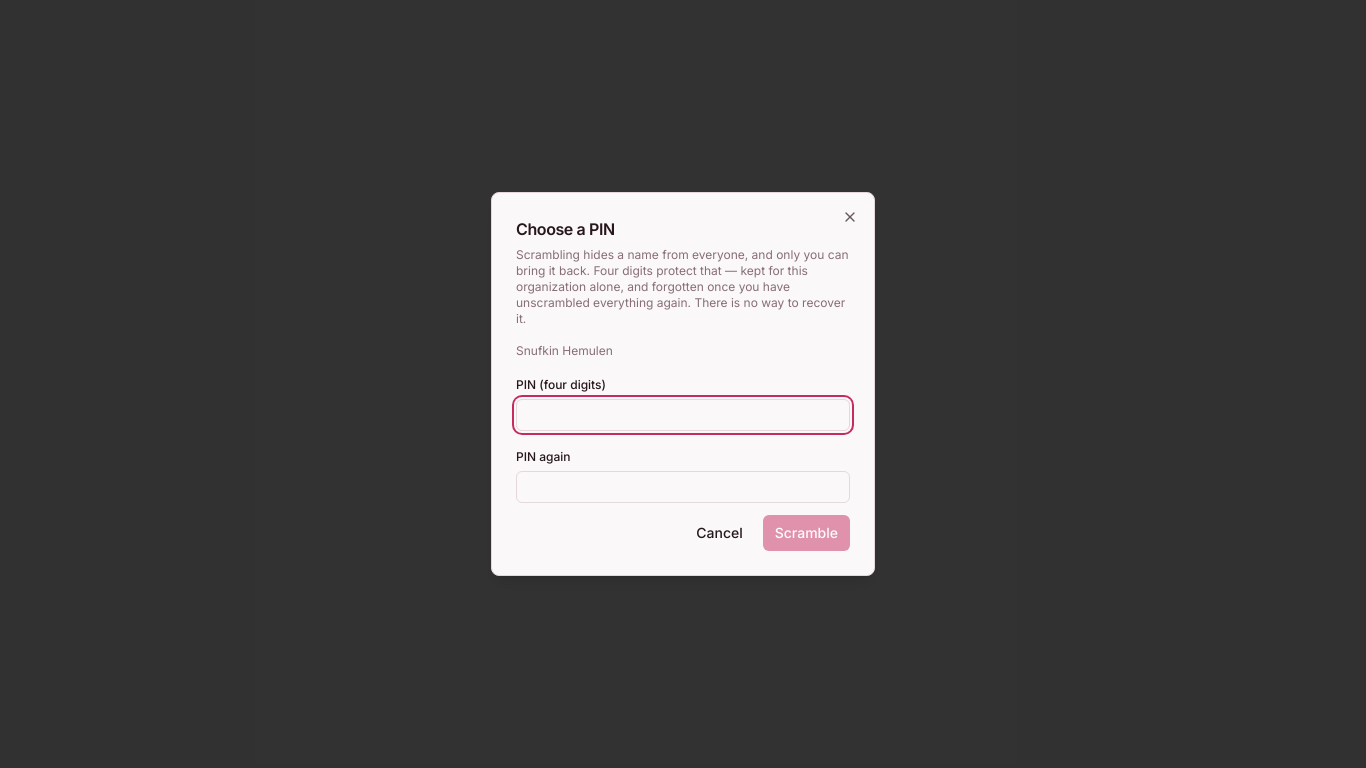
Scenario: scramble PIN dialog › will not send a new PIN that was mistyped twice
The width and height of the screenshot is (1366, 768).
In the password field labelled "PIN (four digits)": (683, 415) x1=516 y1=399 x2=850 y2=431, type "4917"
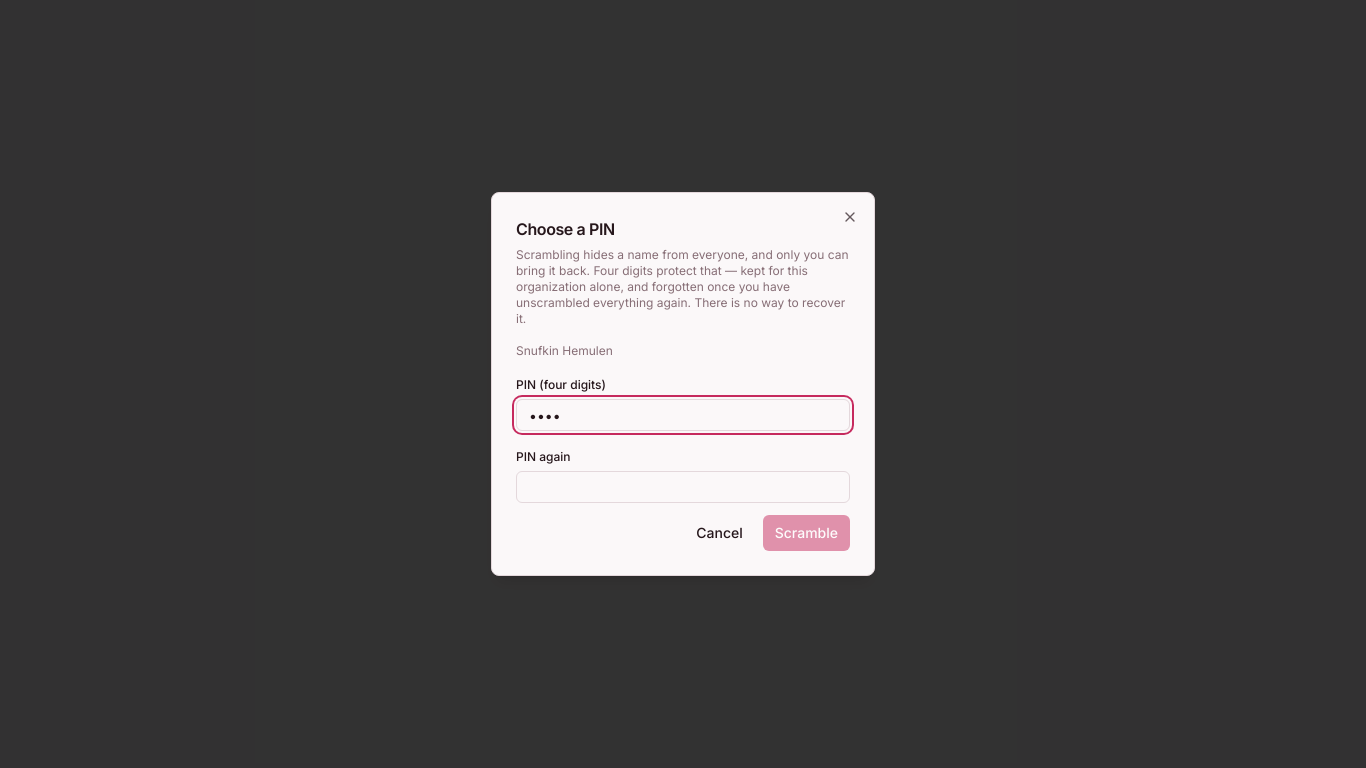
In the password field labelled "PIN again": (683, 487) x1=516 y1=471 x2=850 y2=503, type "4918"
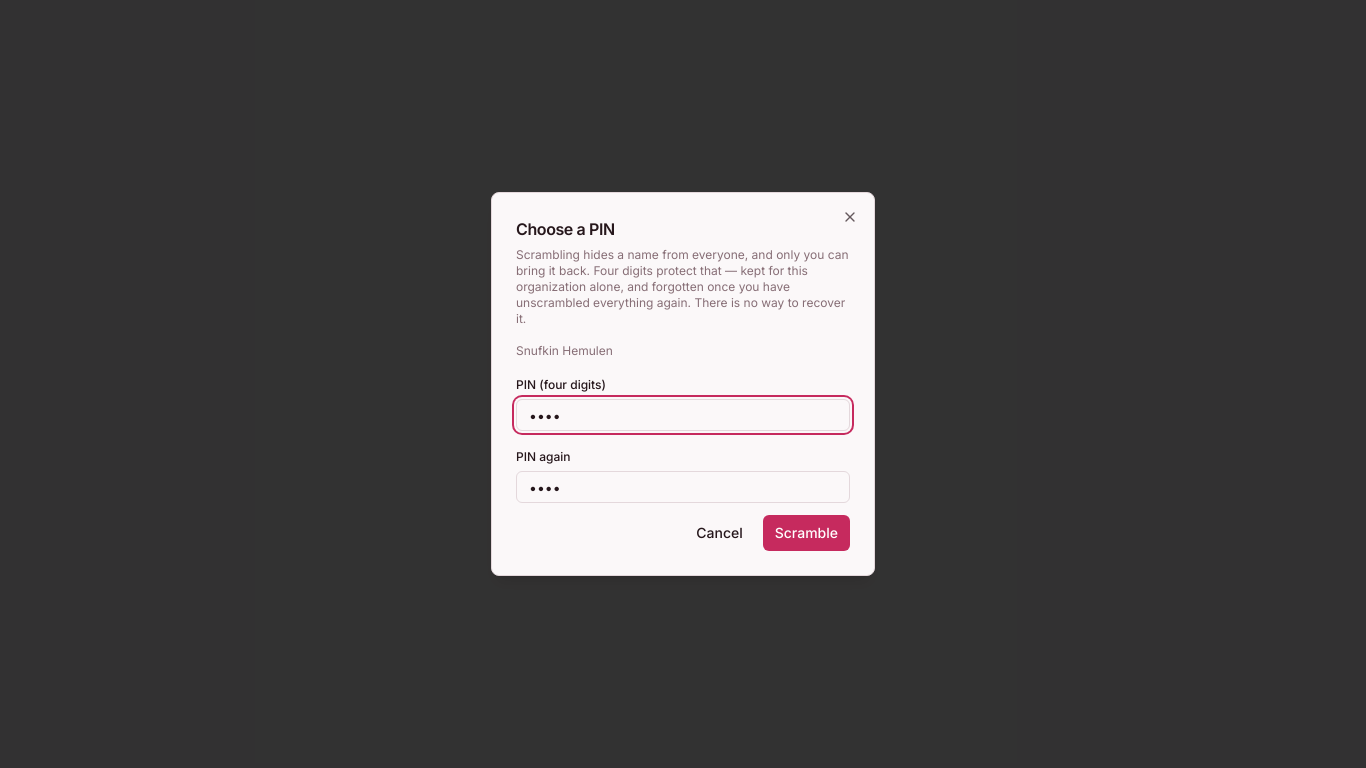
Click the button "Scramble": (806, 533) x1=763 y1=515 x2=850 y2=551
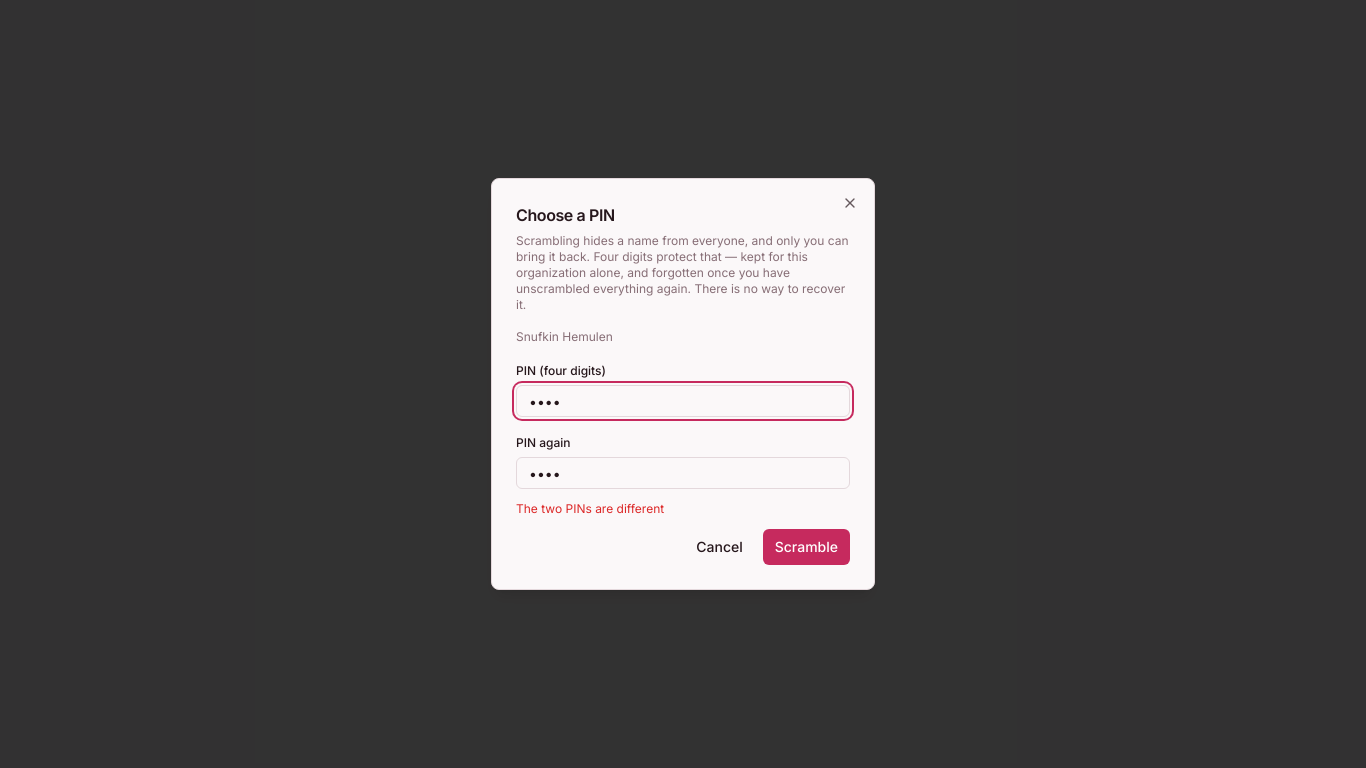
Now the message reads "The two PINs are different", box x1=516 y1=501 x2=664 y2=516
